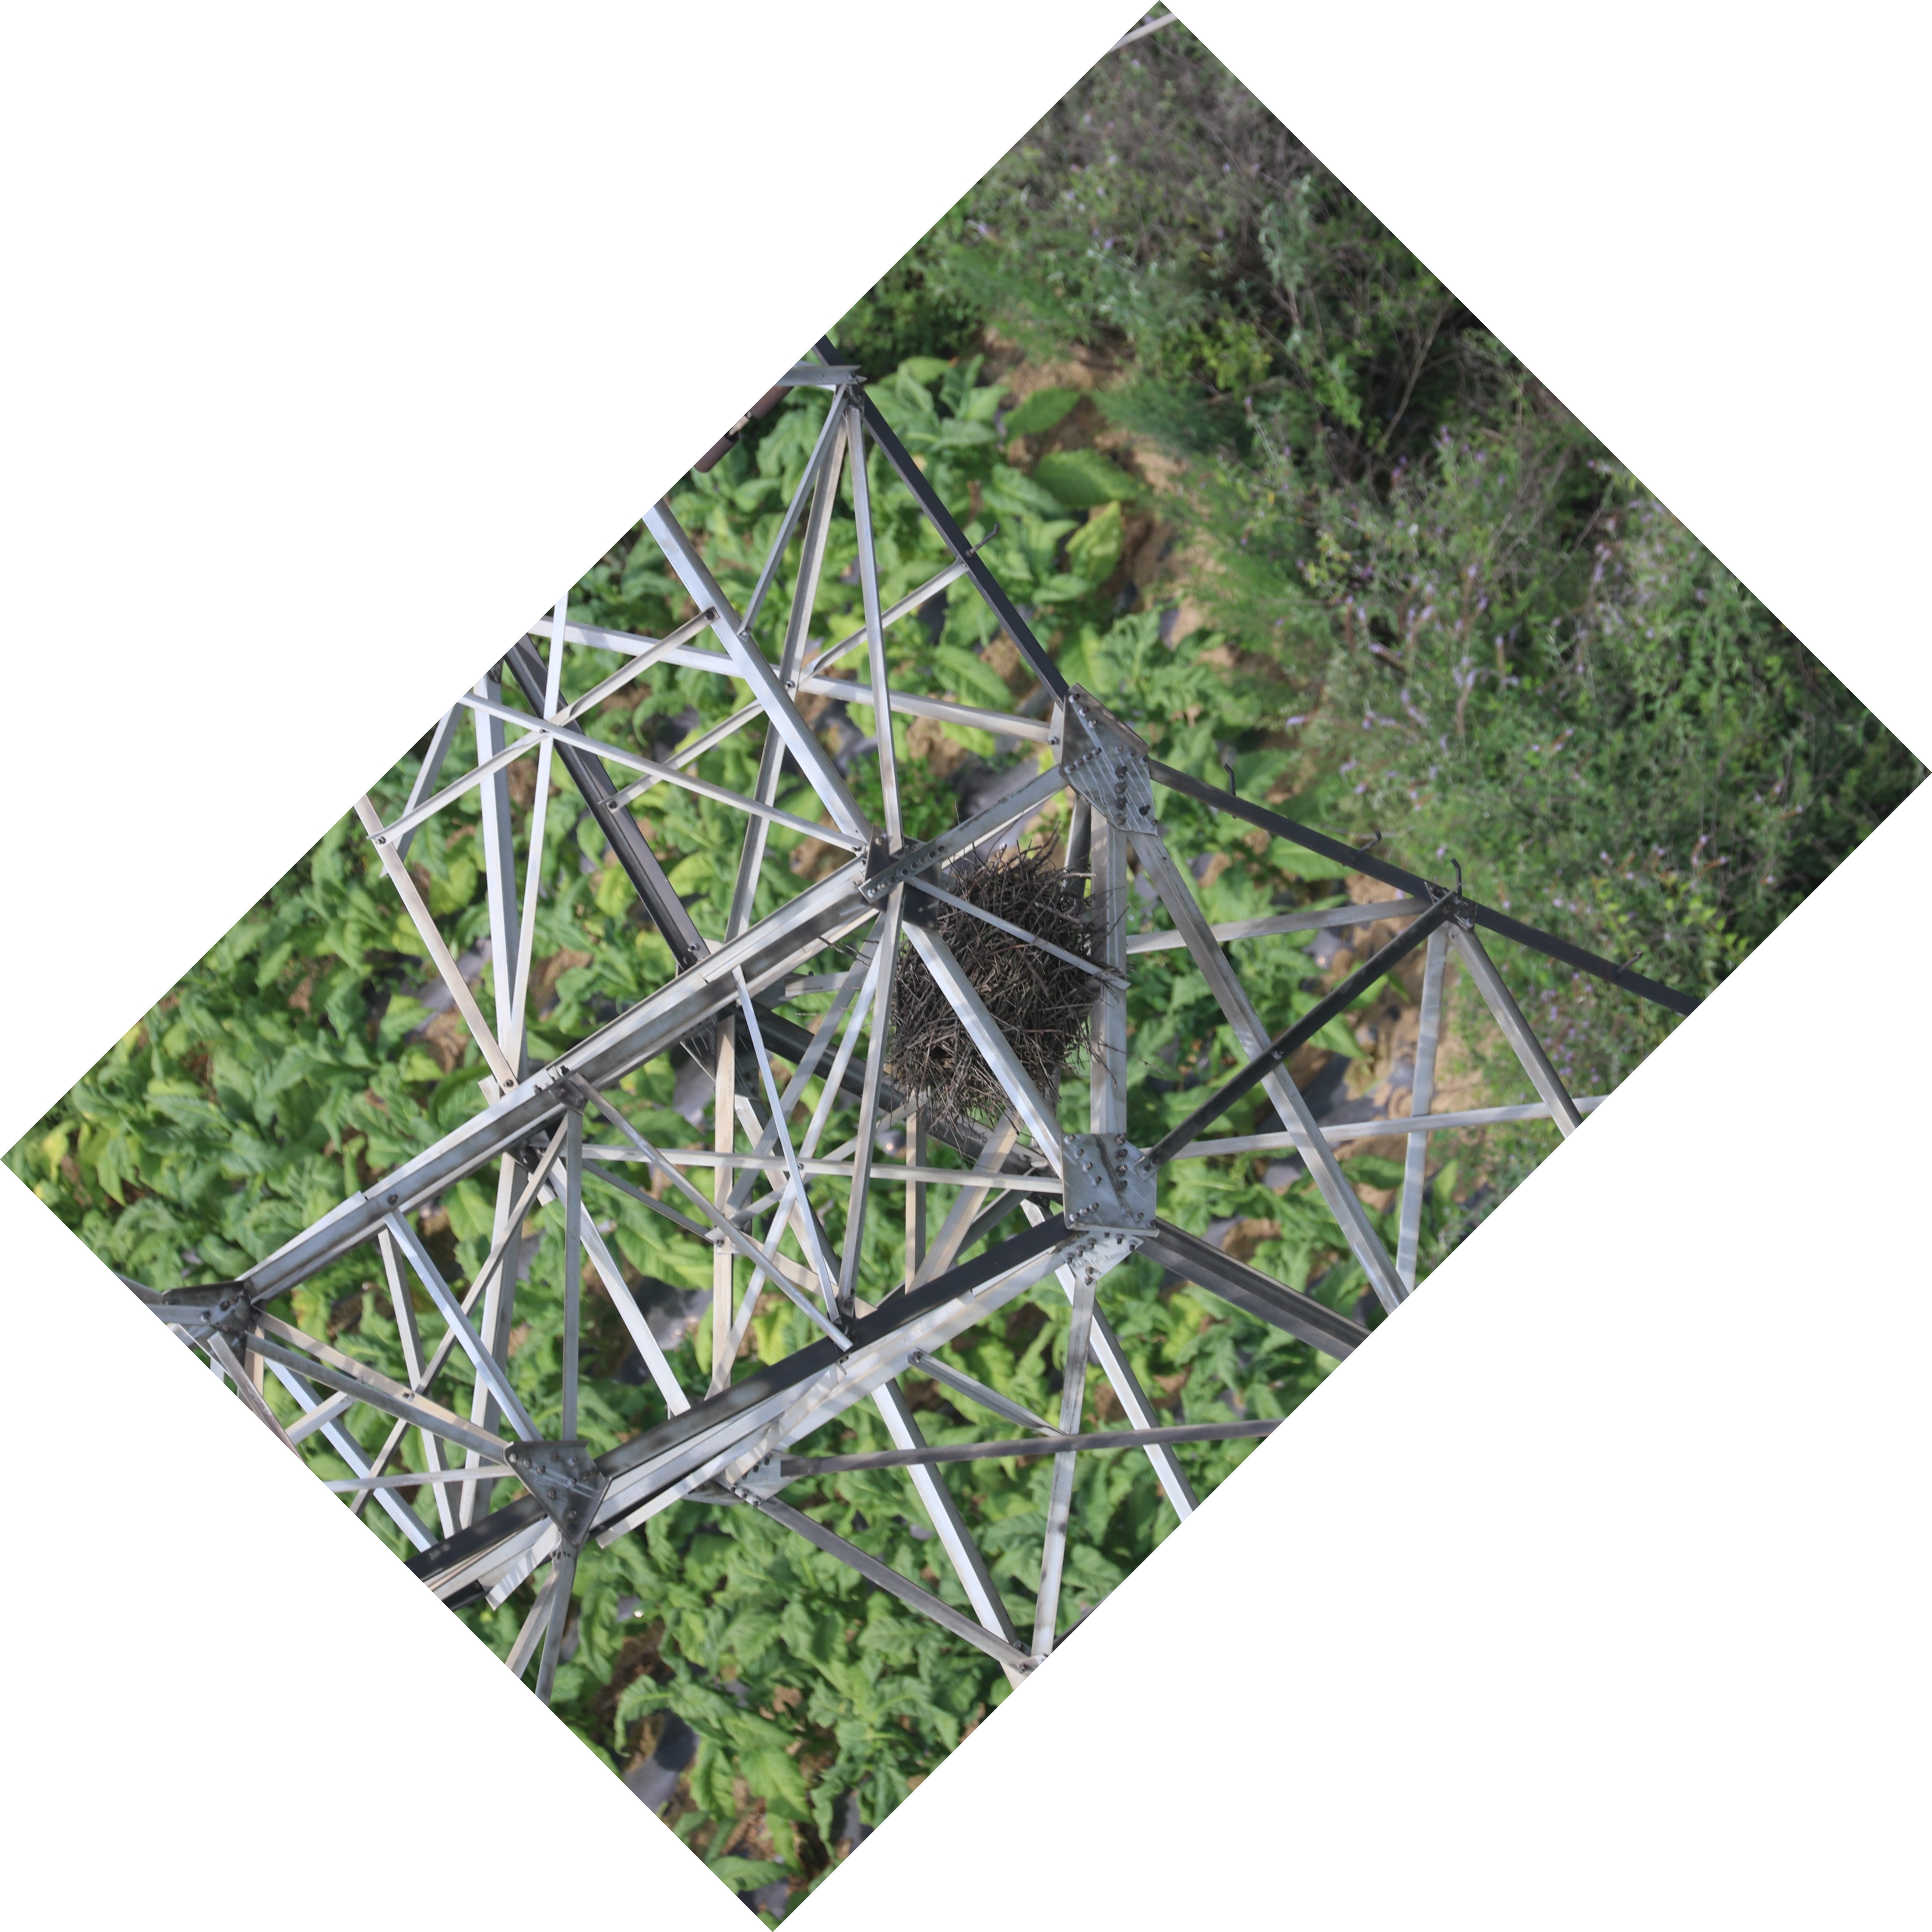niaowo: (839, 839, 1139, 1120)
